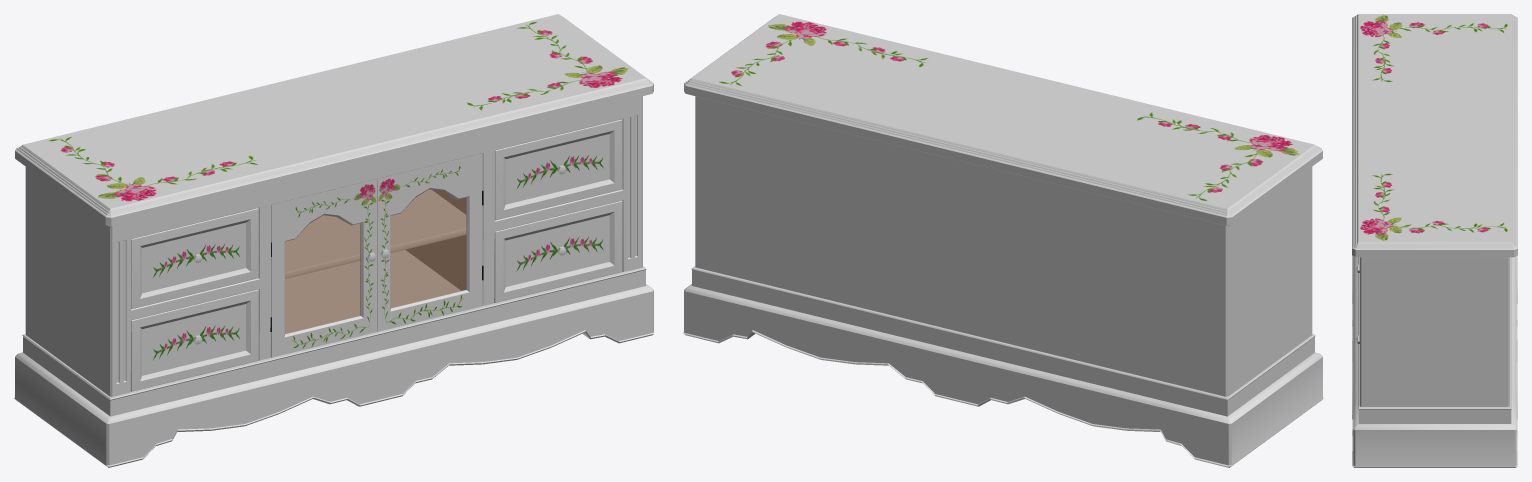
The picture shows the model from 3 angles, left to right: view 1: azimuth 30°, elevation 25°; view 2: azimuth 150°, elevation 25°; view 3: azimuth 270°, elevation 25°; orthographic projection. The views are drawn at different scales.
Visible parts, largest first — view 1: SJ0519; view 2: SJ0519; view 3: SJ0519.
Boxes of the visible parts, bbox=[...] form: SJ0519: bbox=[14, 14, 654, 467]; SJ0519: bbox=[683, 14, 1323, 467]; SJ0519: bbox=[1352, 14, 1517, 467].
Size of the model in its own units: 150 by 45 by 67.
